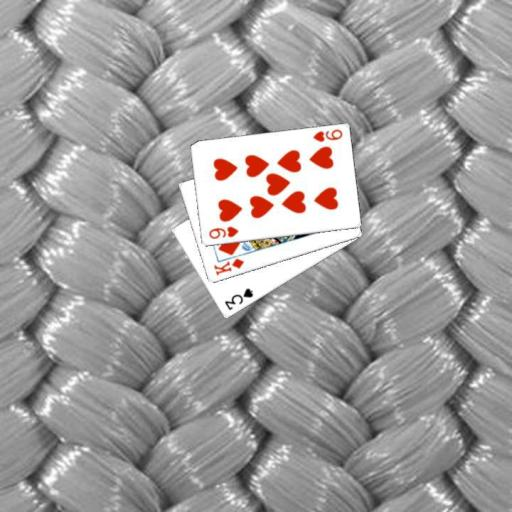3S: (221, 285, 255, 312)
9H: (206, 224, 240, 241), (310, 127, 344, 144)
KD: (211, 255, 246, 277)
